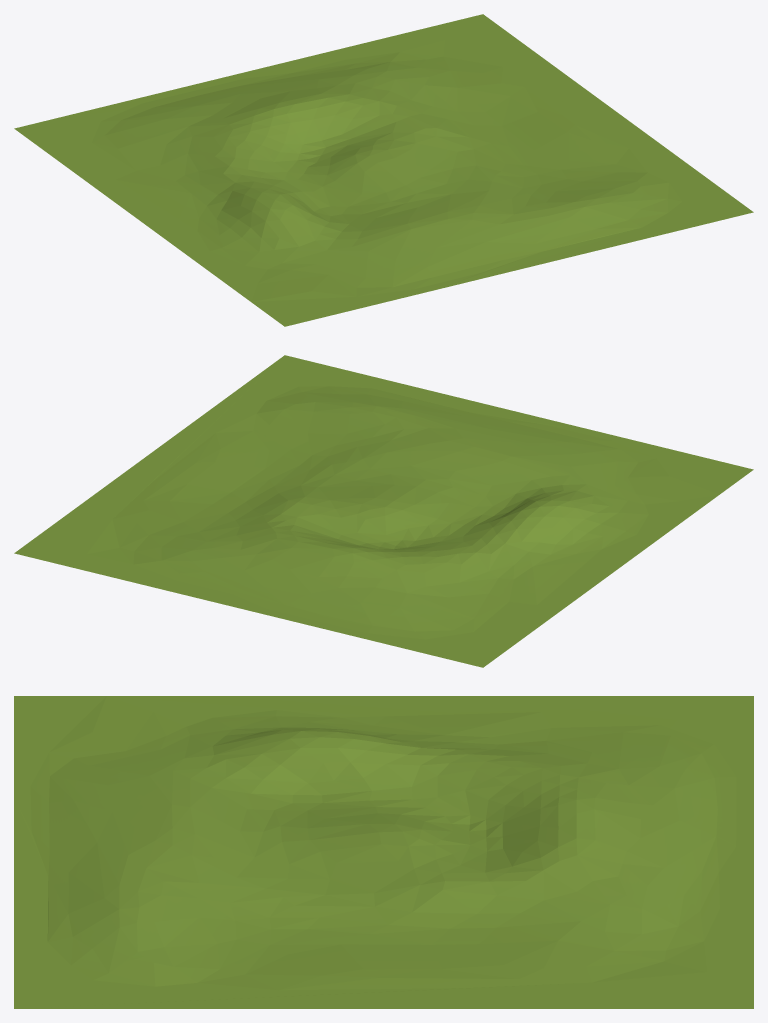
File: Mesh_Landscape_Terrain_03.FBX
The picture shows the model from 3 angles, top to bottom: view 1: azimuth 30°, elevation 25°; view 2: azimuth 150°, elevation 25°; view 3: azimuth 270°, elevation 25°; orthographic projection. The views are drawn at different scales.
Visible parts, largest first — view 1: Mesh_Landscape_Terrain_03; view 2: Mesh_Landscape_Terrain_03; view 3: Mesh_Landscape_Terrain_03.
Boxes of the visible parts, x1,y1,x2,y2 form: Mesh_Landscape_Terrain_03: (14, 14, 753, 326); Mesh_Landscape_Terrain_03: (14, 355, 753, 667); Mesh_Landscape_Terrain_03: (14, 696, 753, 1008).
Bounding box in the file's own units: 12800 × 12800 × 561.
